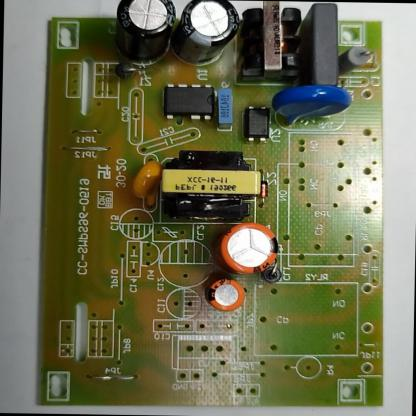Cap1: (219, 221, 279, 278)
Cap2: (208, 278, 250, 312)
Cap3: (172, 0, 242, 65)
Cap4: (114, 0, 178, 69)
MOSFET: (160, 80, 216, 123)
Mov: (270, 82, 355, 132)
Resistor: (338, 44, 372, 78)
Transformer: (158, 146, 265, 219), (243, 1, 304, 80)
